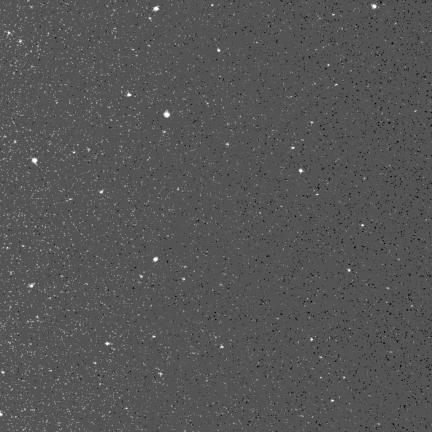blob: (164, 111, 170, 118), (32, 158, 37, 164), (371, 4, 377, 9), (153, 257, 158, 262), (299, 169, 304, 174), (99, 189, 104, 194), (153, 7, 159, 11), (127, 93, 132, 97), (217, 48, 221, 53), (226, 143, 230, 147), (310, 338, 314, 342), (291, 146, 295, 150), (311, 121, 314, 125), (361, 224, 365, 227), (182, 278, 186, 281), (19, 39, 22, 43), (220, 345, 224, 348), (106, 342, 110, 345), (348, 269, 351, 273), (0, 411, 2, 416)
